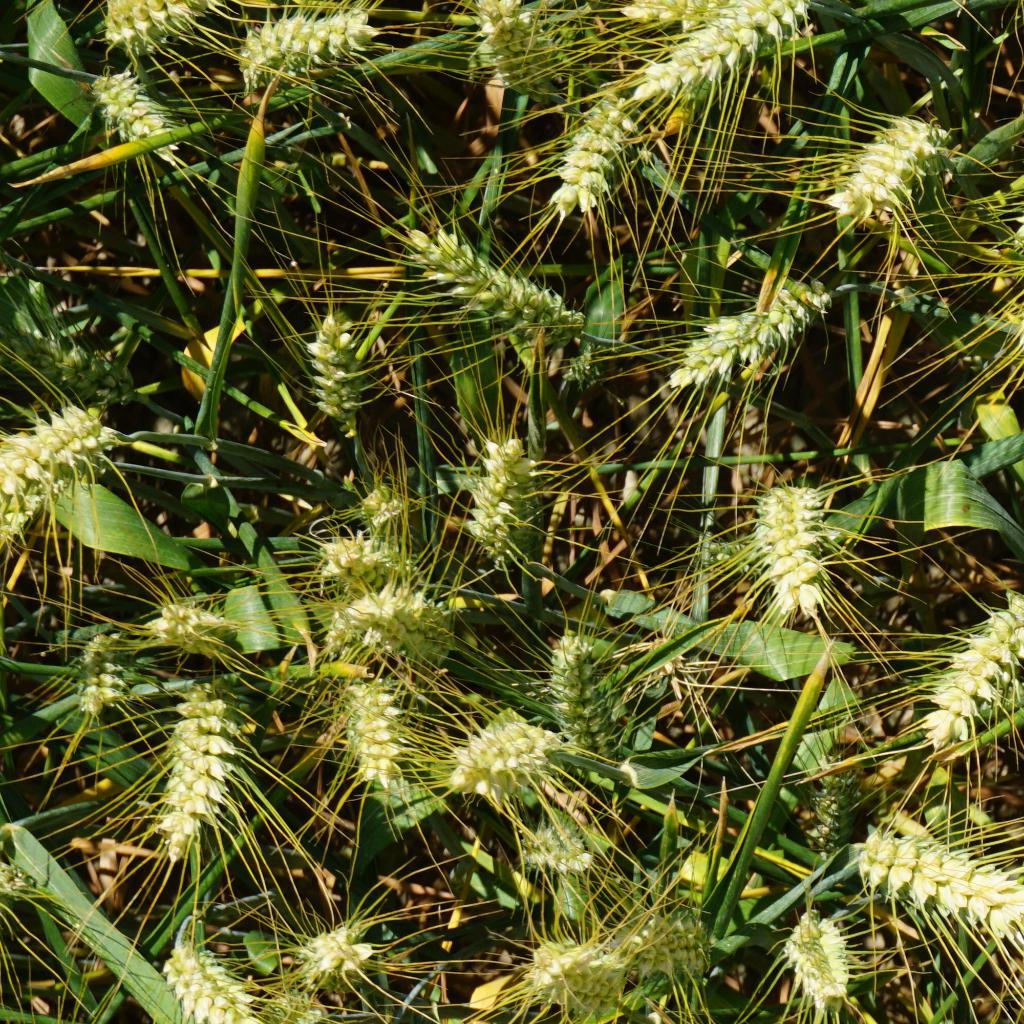0-0: (852, 816, 1024, 979), (389, 216, 589, 338), (653, 275, 836, 404), (903, 581, 1024, 758), (728, 465, 845, 630), (660, 0, 799, 115), (228, 3, 401, 94), (0, 396, 137, 502), (829, 119, 948, 234), (161, 677, 236, 855), (544, 101, 650, 218), (0, 327, 144, 408), (333, 666, 420, 798), (768, 894, 856, 1024), (474, 431, 550, 576), (519, 929, 629, 1024), (164, 928, 271, 1024), (544, 638, 626, 750), (77, 67, 182, 154), (296, 314, 376, 423), (797, 746, 871, 861), (474, 0, 562, 83), (342, 578, 446, 645), (308, 530, 424, 586), (147, 587, 237, 659), (284, 920, 386, 981), (446, 713, 544, 770), (640, 909, 712, 982), (72, 621, 130, 711), (97, 0, 212, 45), (247, 965, 329, 1024), (522, 813, 589, 870), (0, 848, 54, 907), (448, 763, 528, 801), (557, 345, 616, 396), (0, 485, 43, 552), (349, 480, 402, 521)
